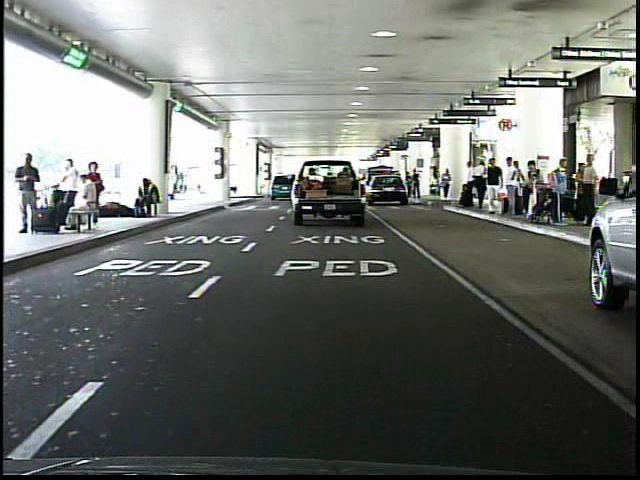person: (18, 152, 48, 240), (480, 155, 506, 224), (502, 156, 523, 220), (459, 156, 480, 212), (439, 166, 455, 205), (412, 169, 422, 203), (404, 169, 414, 202)
